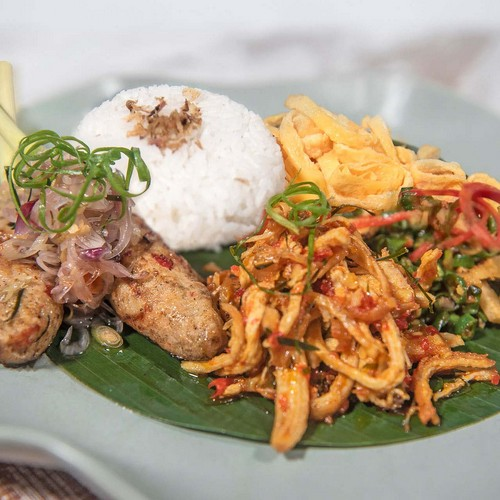lawar: (273, 127, 500, 396)
